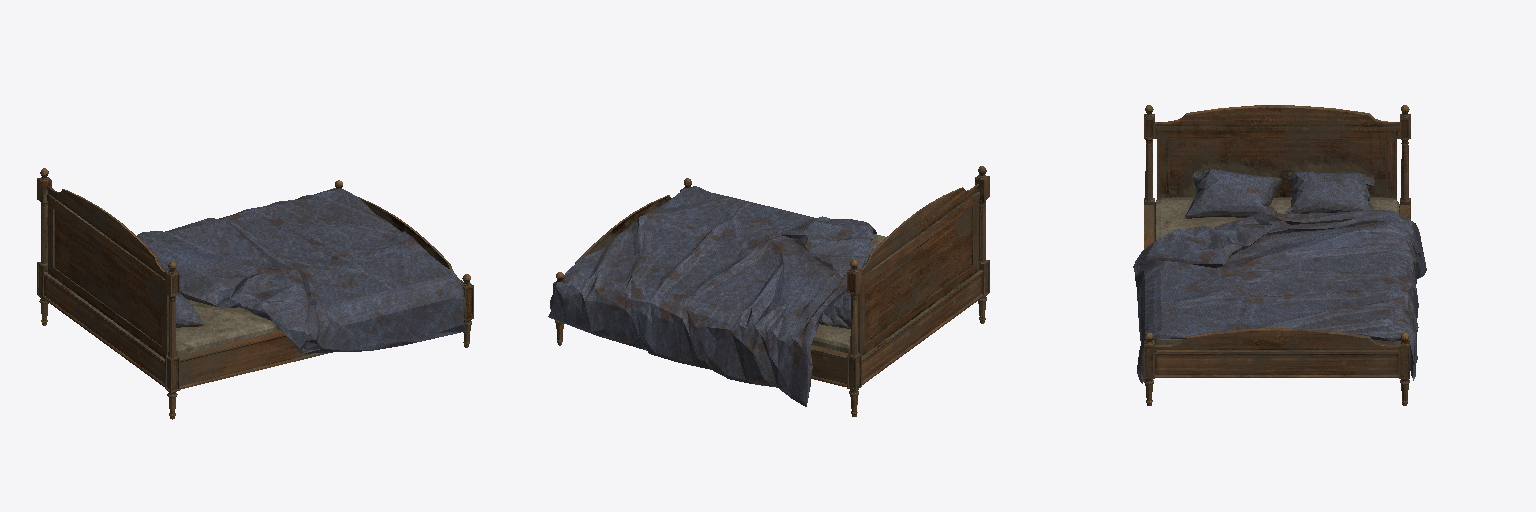
3 views of the same model, side by side, from view 1: azimuth 30°, elevation 25°; view 2: azimuth 150°, elevation 25°; view 3: azimuth 270°, elevation 25° (orthographic).
Visible parts, largest first — view 1: Object_M_Bed_01_Fabric_Blue_01_0, Object_M_Bed_01_0, Object_M_Bed_01_Fabric_Blue_02_0; view 2: Object_M_Bed_01_Fabric_Blue_01_0, Object_M_Bed_01_0, Object_M_Bed_01_Fabric_Blue_02_0; view 3: Object_M_Bed_01_Fabric_Blue_01_0, Object_M_Bed_01_0, Object_M_Bed_01_Fabric_Blue_02_0.
Part boxes in pixels (left/top/right/bottom): Object_M_Bed_01_Fabric_Blue_01_0: left=137, top=188, right=465, bottom=353; Object_M_Bed_01_0: left=37, top=168, right=473, bottom=419; Object_M_Bed_01_Fabric_Blue_02_0: left=176, top=293, right=280, bottom=355; Object_M_Bed_01_Fabric_Blue_01_0: left=548, top=186, right=876, bottom=406; Object_M_Bed_01_0: left=553, top=166, right=989, bottom=416; Object_M_Bed_01_Fabric_Blue_02_0: left=811, top=234, right=885, bottom=353; Object_M_Bed_01_Fabric_Blue_01_0: left=1133, top=210, right=1426, bottom=383; Object_M_Bed_01_0: left=1144, top=105, right=1410, bottom=405; Object_M_Bed_01_Fabric_Blue_02_0: left=1154, top=169, right=1398, bottom=344.
Size of the model in its own units: 2.5 by 1.22 by 2.07.
3 materials, 3 textured.